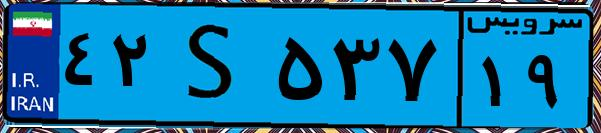1: (475, 38, 525, 113)
2: (110, 28, 158, 98)
3: (330, 28, 385, 110)
4: (57, 26, 110, 100)
5: (270, 28, 330, 110)
7: (385, 28, 445, 110)
9: (525, 38, 570, 115)
S: (158, 12, 270, 120)
